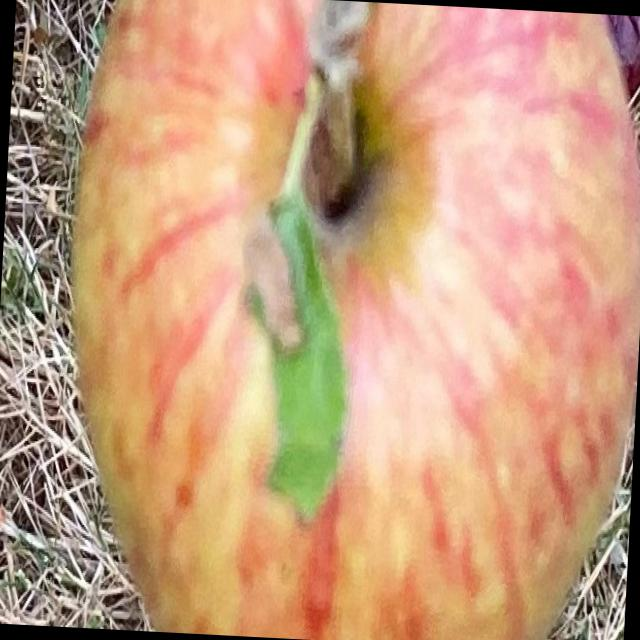Apples: (49, 0, 639, 639)
